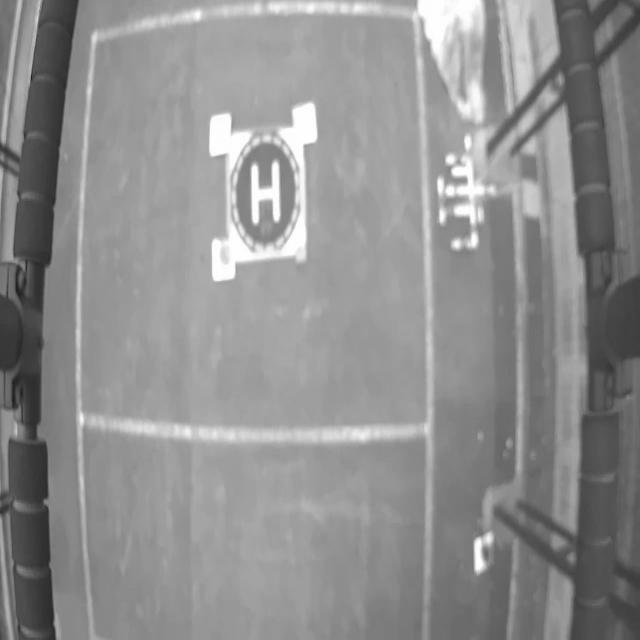Helipad: (251, 160, 280, 228)
